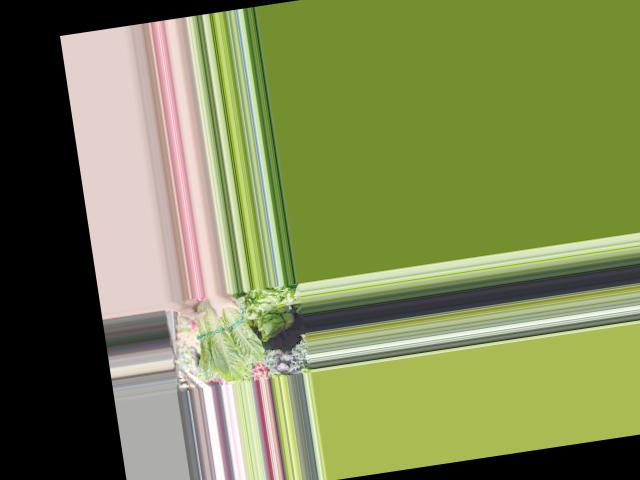lettuce: (189, 288, 268, 382)
